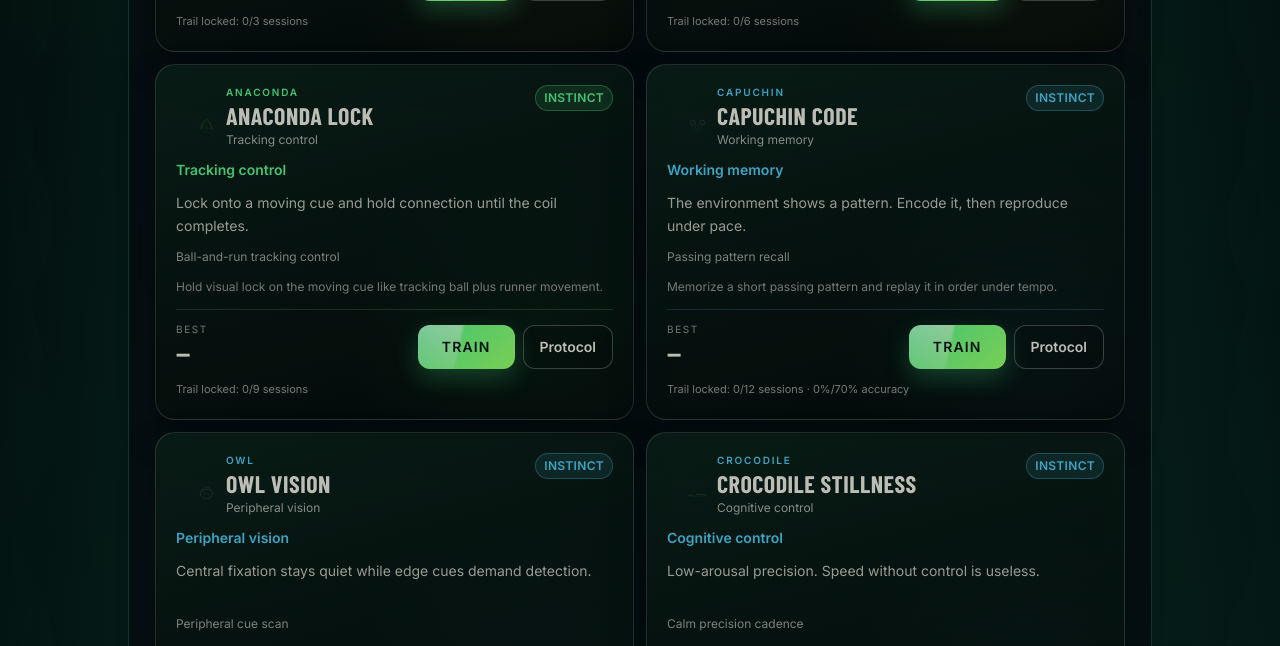
it: App integration flow › marks failure when Sequence Memory input order is wrong
The image size is (1280, 646).
(page scrolled)
Click the button "TRAIN" below "Passing pattern recall" at (957, 347), box [909,325,1006,369]
Wait 4100 ms
(page scrolled)
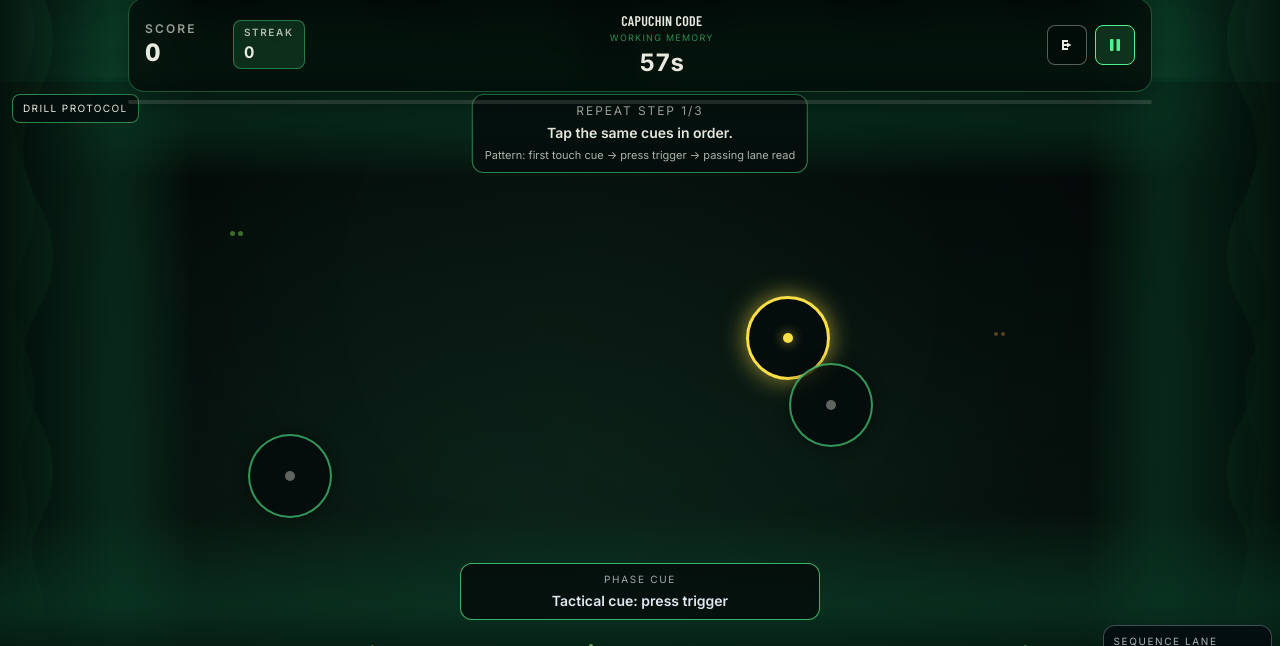
Result: the button named "pause game" is shown at [1095,25,1135,65]
Click the 2nd button named "Sequence target" at (831, 405), box [789,363,873,447]
Wait 100 ms
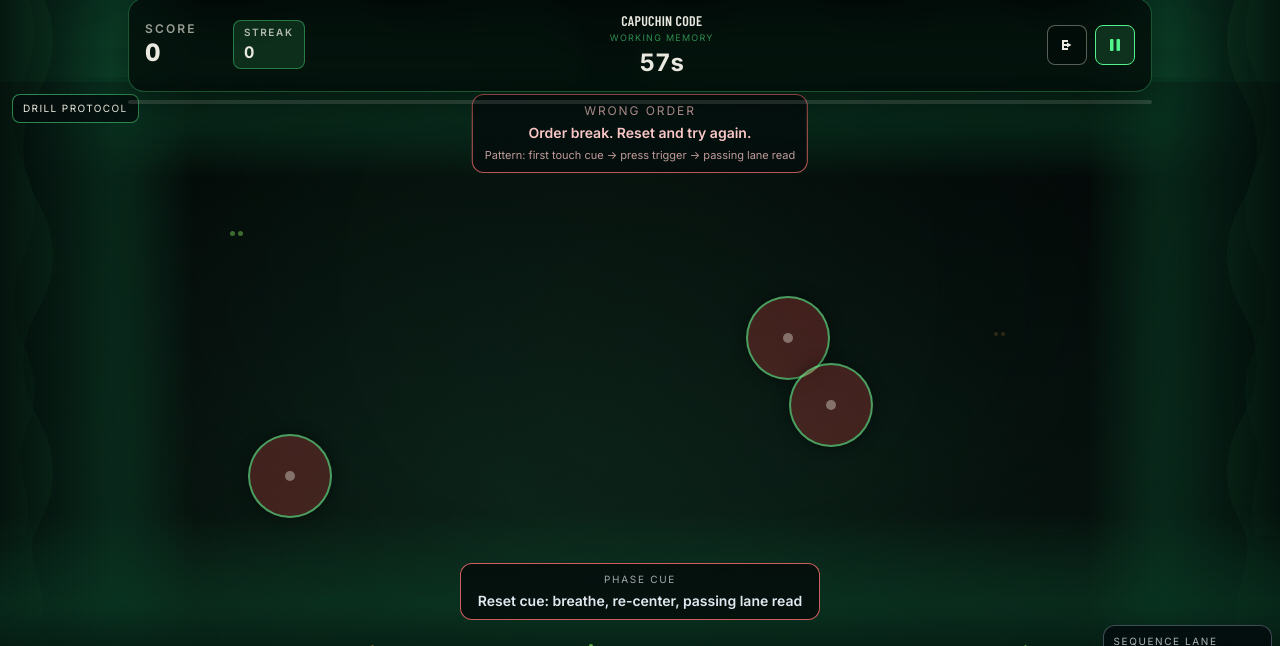
Expected: the element named "Current streak 0" is shown, [233,20,304,69]
Result: the text "Wrong order" is shown at [584,103,696,118]
